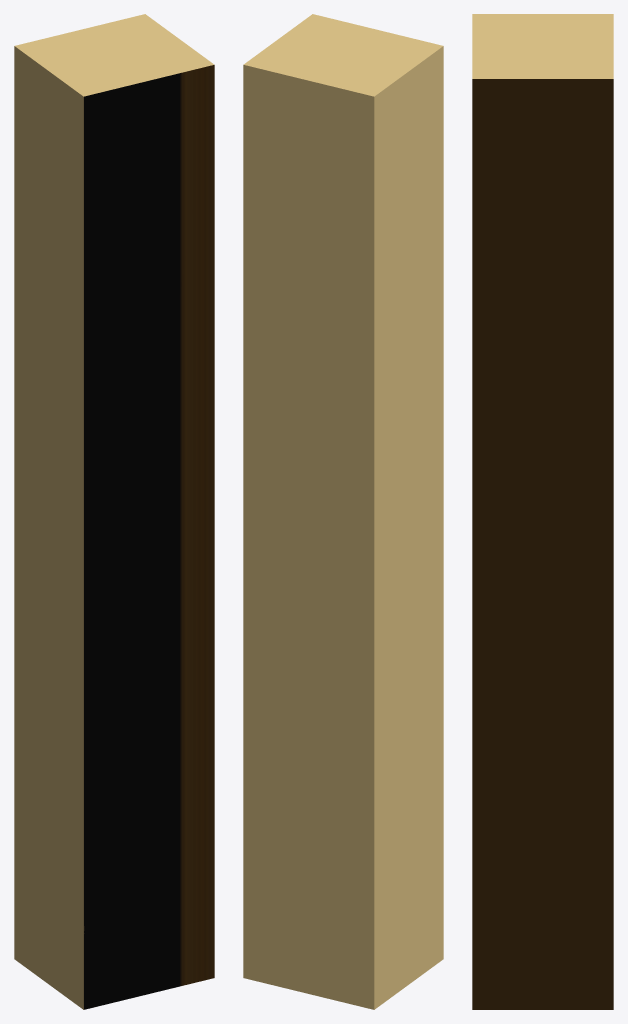
File: SalleGardes_Coin03.fbx
3 views of the same model, side by side, from view 1: azimuth 30°, elevation 25°; view 2: azimuth 150°, elevation 25°; view 3: azimuth 270°, elevation 25° (orthographic).
Visible parts, largest first — view 1: Coin03; view 2: Coin03; view 3: Coin03.
Boxes of the visible parts, bbox=[...] form: Coin03: bbox=[14, 14, 214, 1009]; Coin03: bbox=[243, 14, 443, 1009]; Coin03: bbox=[472, 14, 613, 1009].
Size of the model in its own units: 0.9728 by 6.49 by 0.8923.
